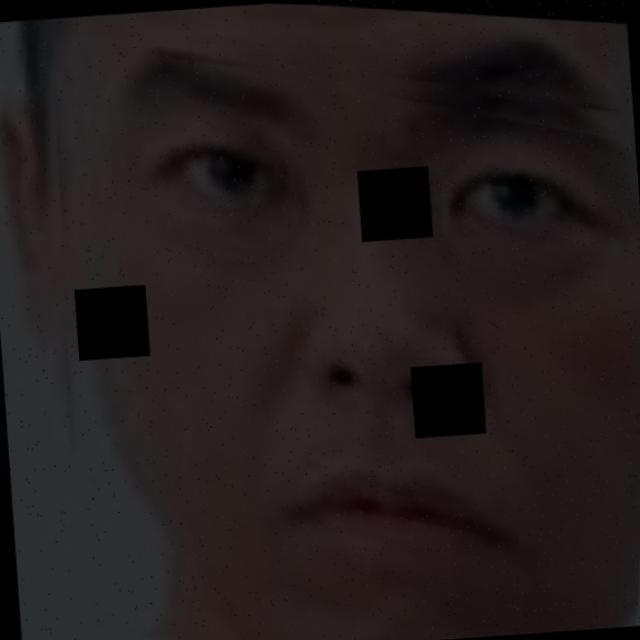Angry: (46, 10, 640, 581)
